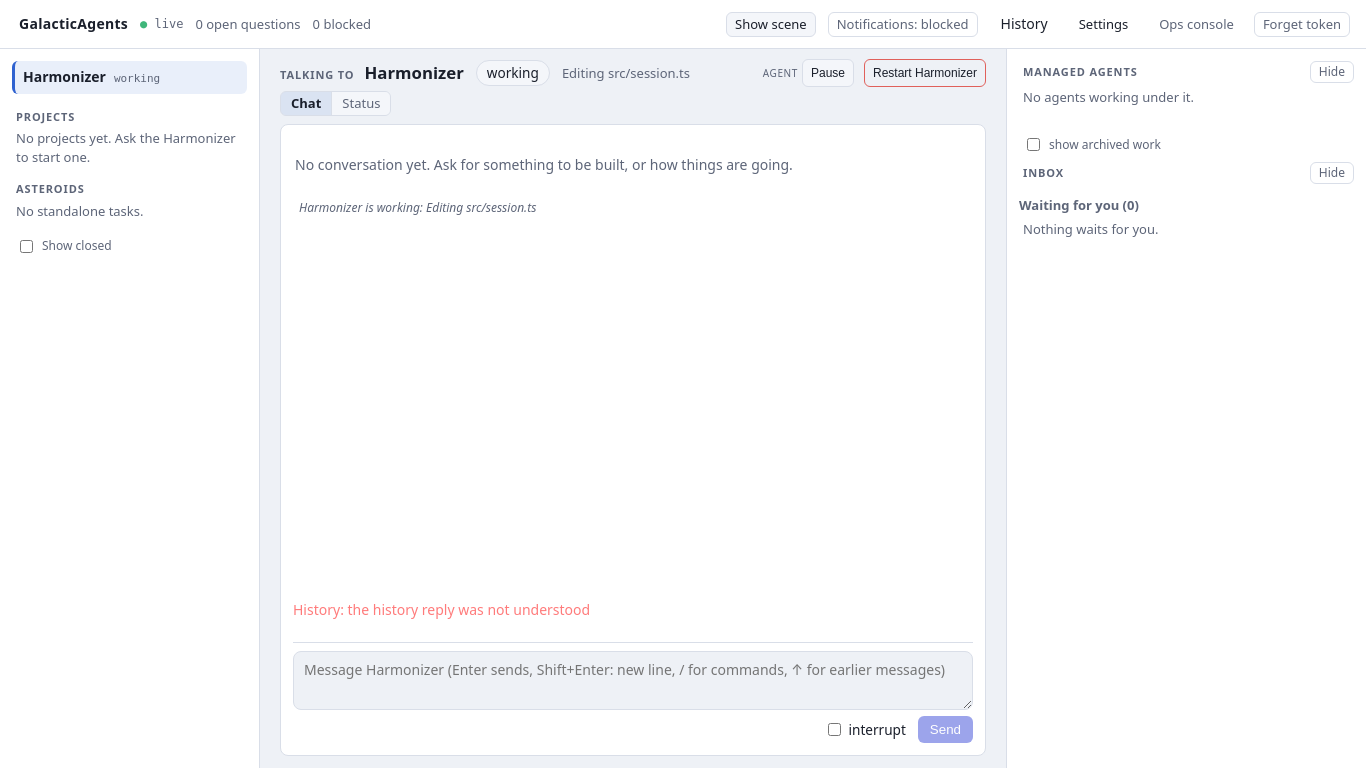
Test: the scene beside the panel (P3-01) › list mode never probes for WebGL; showing the scene does
Click the button "Show scene": {"x": 771, "y": 24} [726, 12, 816, 36]
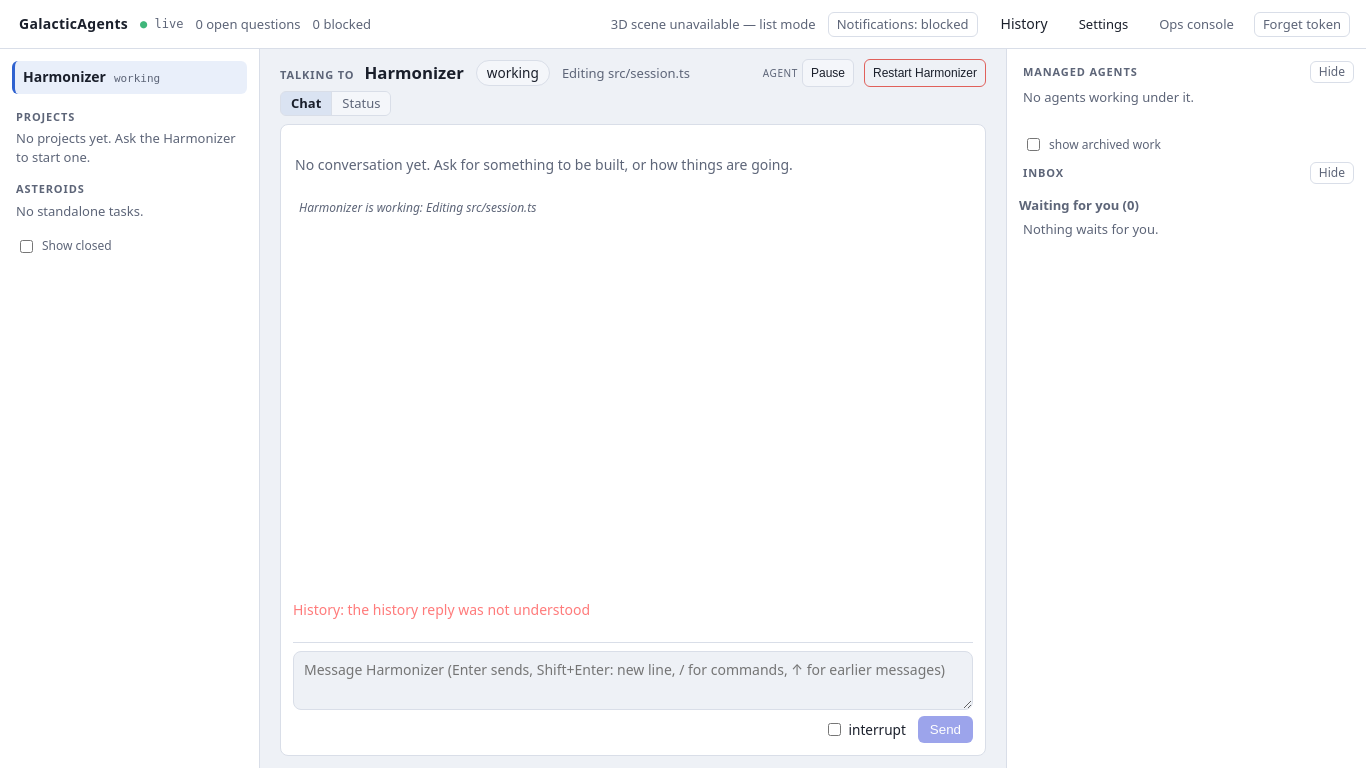
Result: the text "3D scene unavailable — list mode" is shown at [611, 15, 816, 34]
